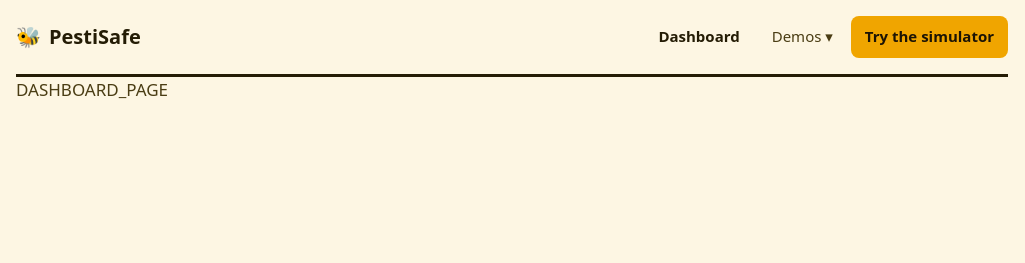
NavBar › opens the Demos dropdown on click and lists all three demo pages
Step 1. Click the button "Demos ▾" → (802, 37), box x1=758 y1=16 x2=847 y2=58
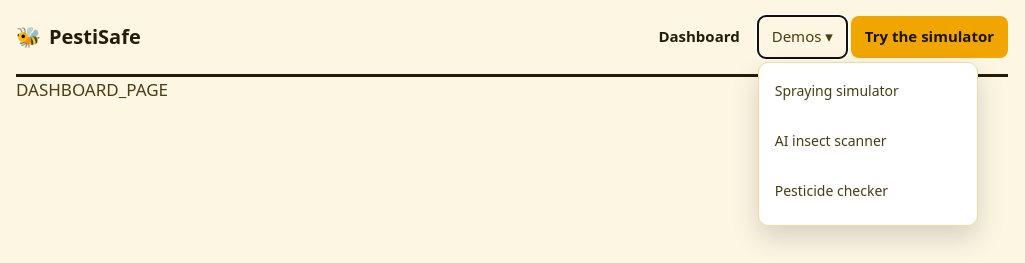
Result: the menu item "Spraying simulator" is shown at x1=775 y1=80 x2=899 y2=100
Result: the menu item "AI insect scanner" is shown at x1=775 y1=131 x2=887 y2=150
Result: the menu item "Pesticide checker" is shown at x1=775 y1=181 x2=888 y2=200
